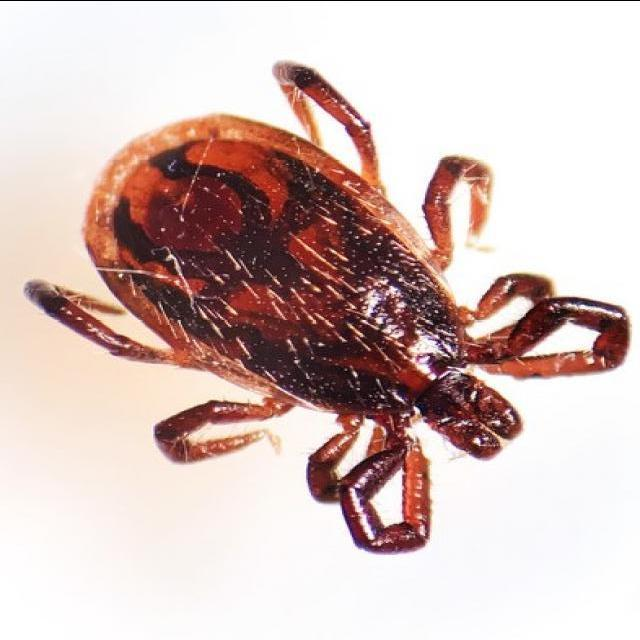Ixodes Ricinus-M: (26, 59, 633, 555)
